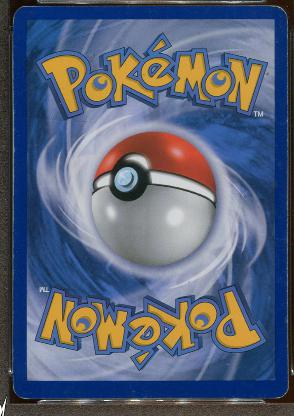Card: (9, 2, 291, 402)
Corner Wear: (12, 386, 34, 400), (272, 3, 287, 19), (273, 384, 289, 398)
Edge Wear: (285, 22, 288, 388), (12, 32, 14, 384), (246, 6, 270, 6)
Scratch: (254, 232, 283, 247), (127, 379, 138, 393), (223, 362, 229, 366)
